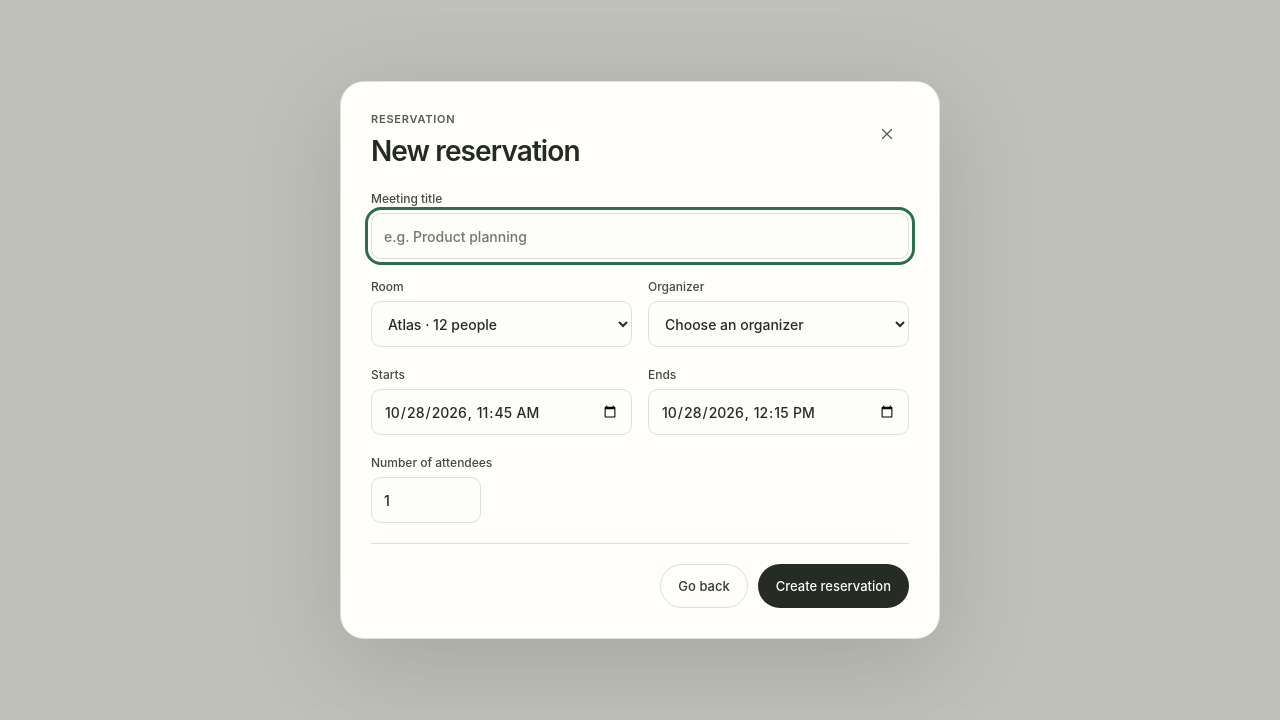
reservation form › preserves the form and displays backend validation failures
The width and height of the screenshot is (1280, 720).
Type "Keep this title" into the field labelled "Meeting title" at (640, 236), box [371,213,909,259]
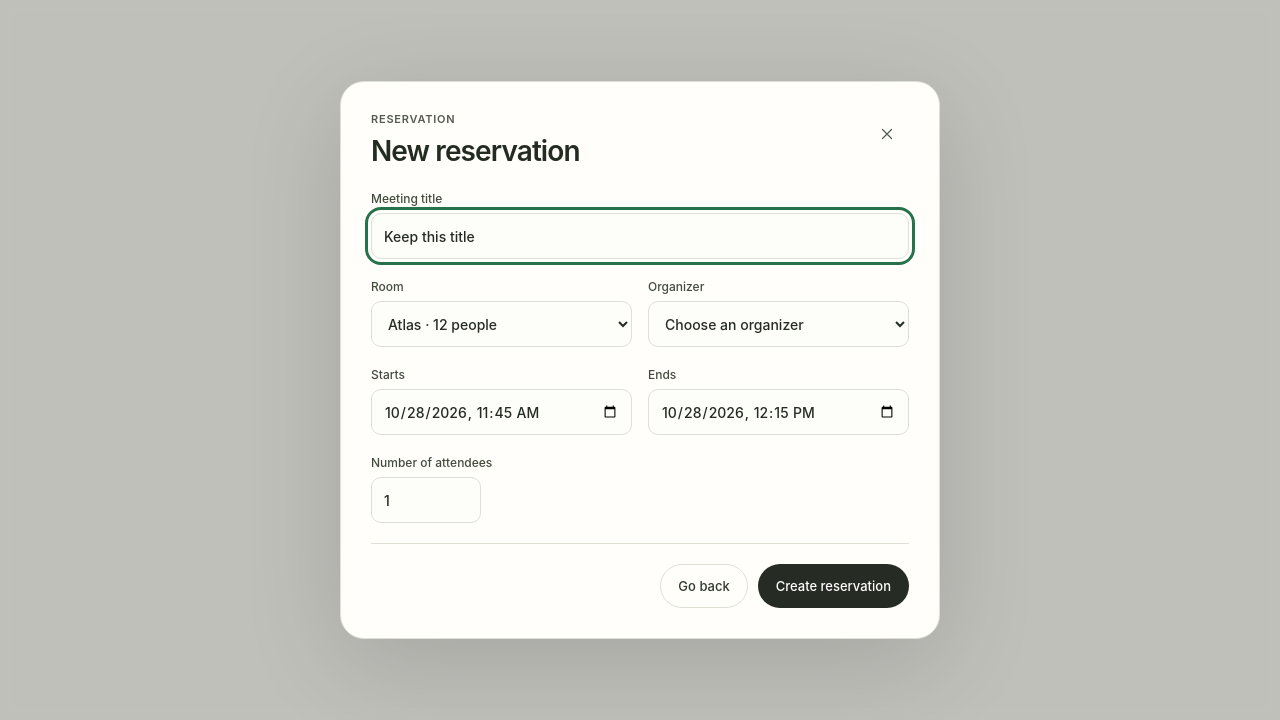
Select "Alex Morgan" in the dropdown labelled "Organizer" at (778, 324), box [648,301,909,347]
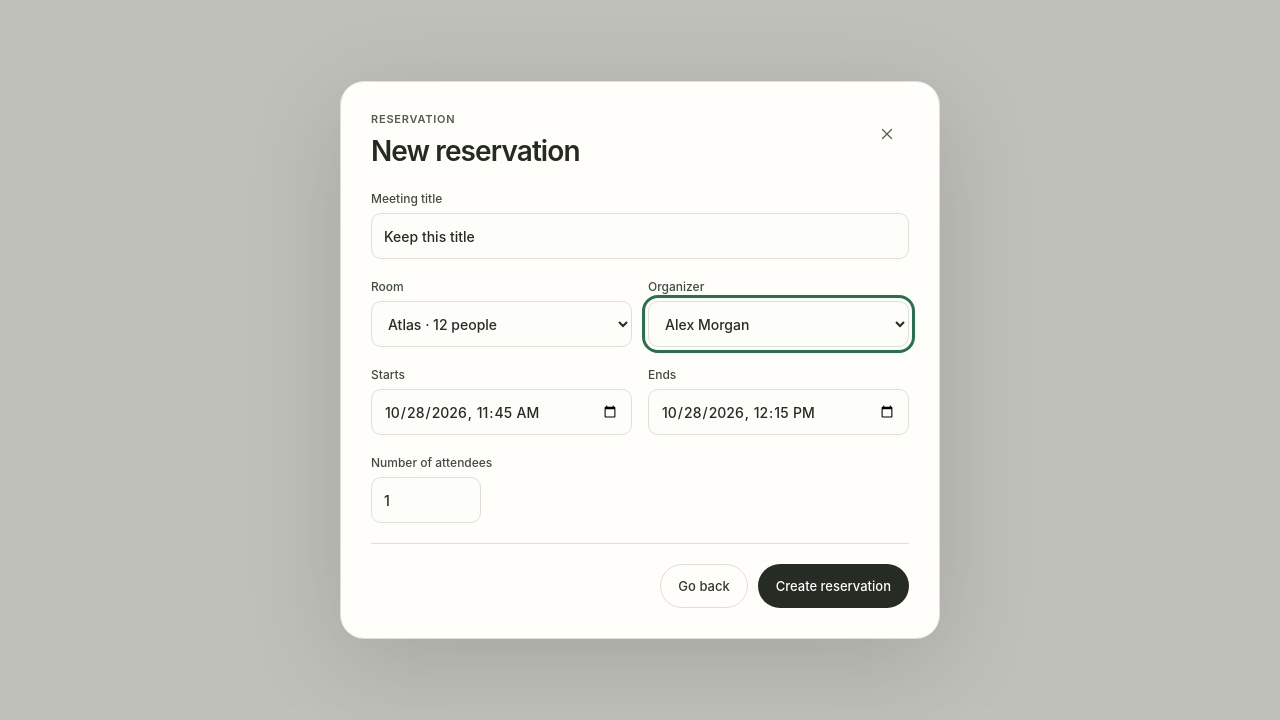
Click the button "Create reservation" at (833, 586), box [758,564,909,608]
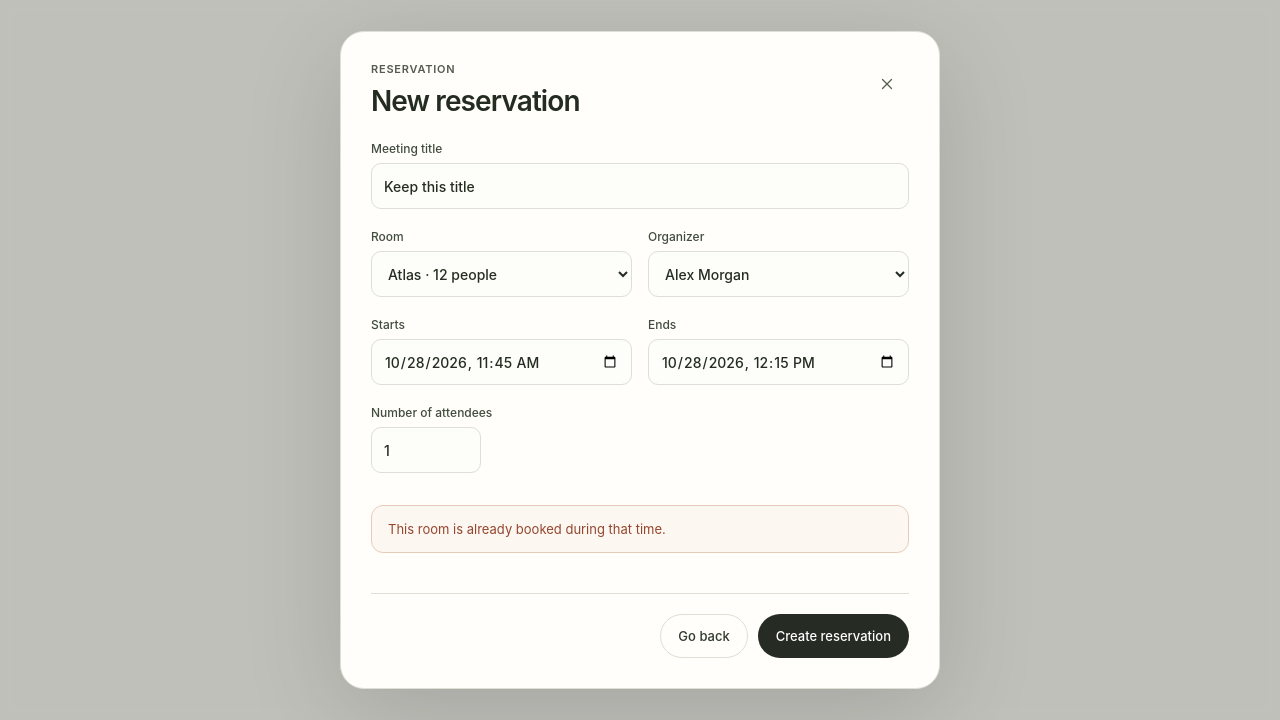
Expected: the button "Create reservation" is enabled, [758,614,909,658]
Expected: the message shows "already booked", [388,521,666,537]
